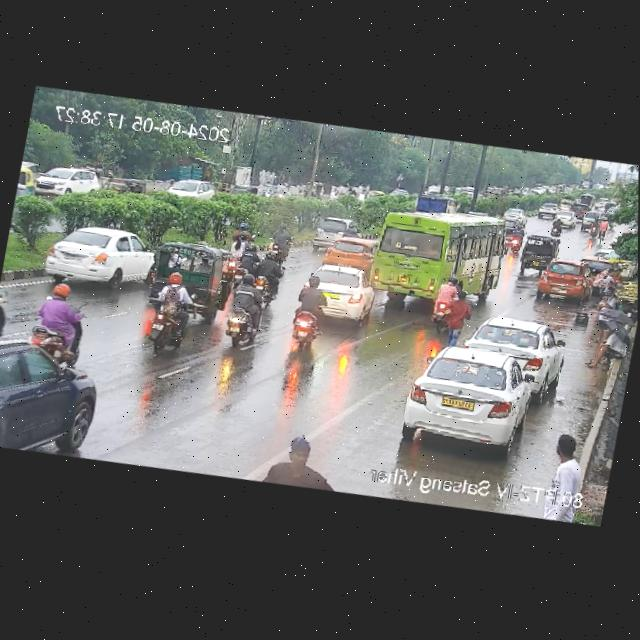bus: (364, 192, 518, 313)
car: (400, 337, 538, 455), (0, 331, 113, 463), (37, 216, 159, 295), (459, 309, 569, 387), (290, 255, 382, 330), (144, 235, 235, 304), (534, 257, 594, 304), (34, 159, 99, 201), (322, 233, 379, 274), (305, 213, 359, 254), (516, 230, 564, 273), (161, 173, 217, 205), (576, 251, 615, 280), (101, 173, 142, 197), (227, 180, 257, 201), (551, 208, 579, 229), (533, 201, 560, 220), (504, 204, 528, 224), (273, 183, 293, 201), (577, 211, 593, 231), (569, 202, 588, 217), (504, 216, 521, 231)
motorcycle: (18, 276, 95, 371), (145, 269, 201, 357), (222, 235, 293, 296), (224, 273, 272, 349), (289, 271, 326, 350), (219, 233, 271, 282), (430, 274, 457, 335), (0, 280, 13, 337), (229, 231, 253, 261), (584, 215, 608, 239), (507, 224, 525, 253), (546, 214, 565, 236), (231, 222, 249, 239), (264, 185, 274, 200)
person: (253, 428, 338, 494), (546, 429, 589, 493), (582, 321, 631, 373), (442, 289, 475, 347), (594, 284, 619, 340), (603, 265, 627, 288)
truck: (411, 185, 457, 219), (554, 196, 575, 211), (580, 191, 595, 206)
